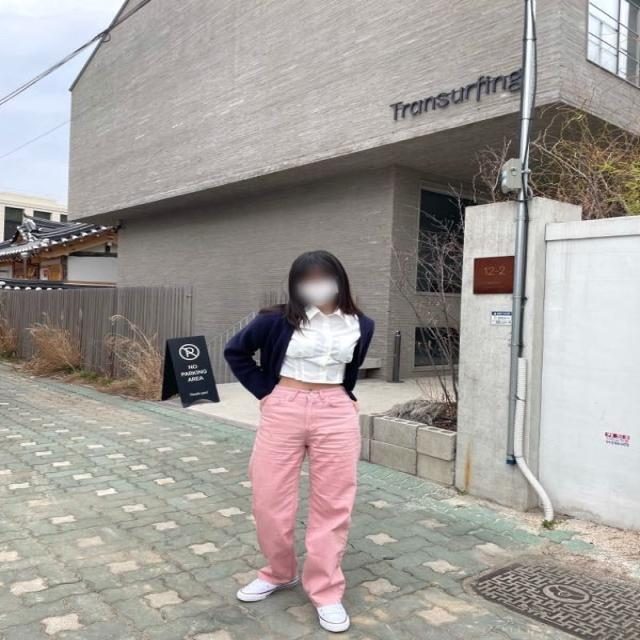cardigan: (224, 299, 375, 399)
cottonpants: (250, 383, 358, 606)
shirt: (281, 298, 363, 383)
